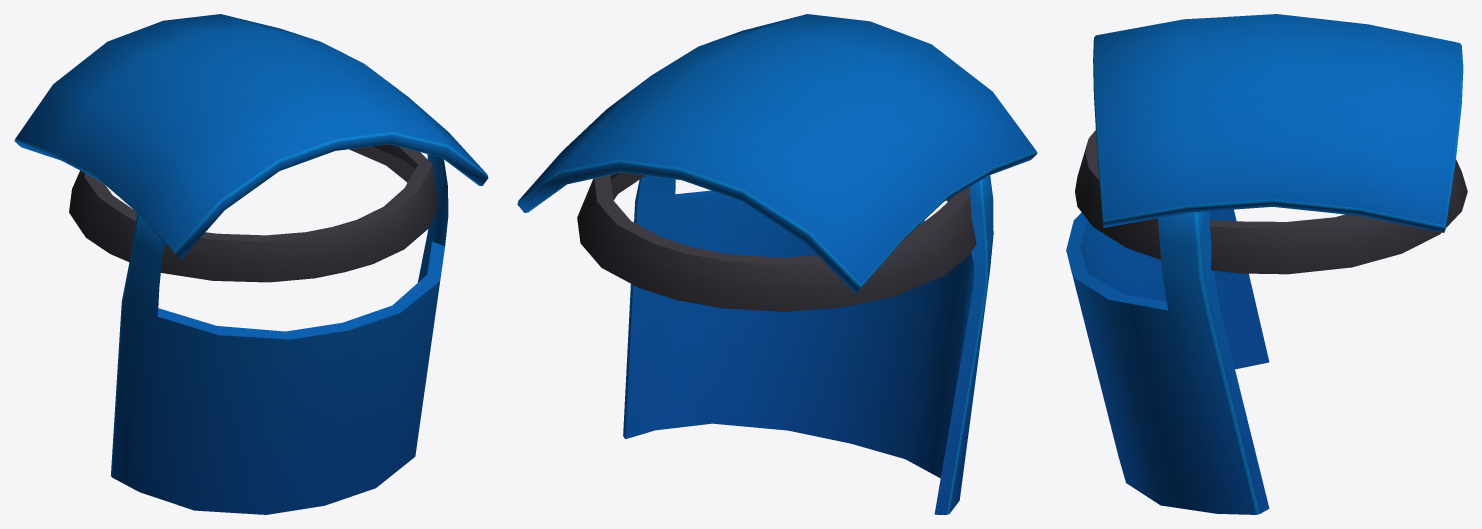
The model's file is Yoka_Hat.fbx.
3 views of the same model, side by side, from view 1: azimuth 30°, elevation 25°; view 2: azimuth 150°, elevation 25°; view 3: azimuth 270°, elevation 25° (orthographic). The views are drawn at different scales.
Parts seen in each view (by area): view 1: Cube.001; view 2: Cube.001; view 3: Cube.001.
Boxes of the visible parts, x1,y1,x2,y2 form: Cube.001: (14, 14, 488, 514); Cube.001: (517, 14, 1037, 514); Cube.001: (1066, 14, 1467, 514).
Bounding box in the file's own units: 0.6056 × 0.7127 × 0.6184.
1 material, 1 textured.
